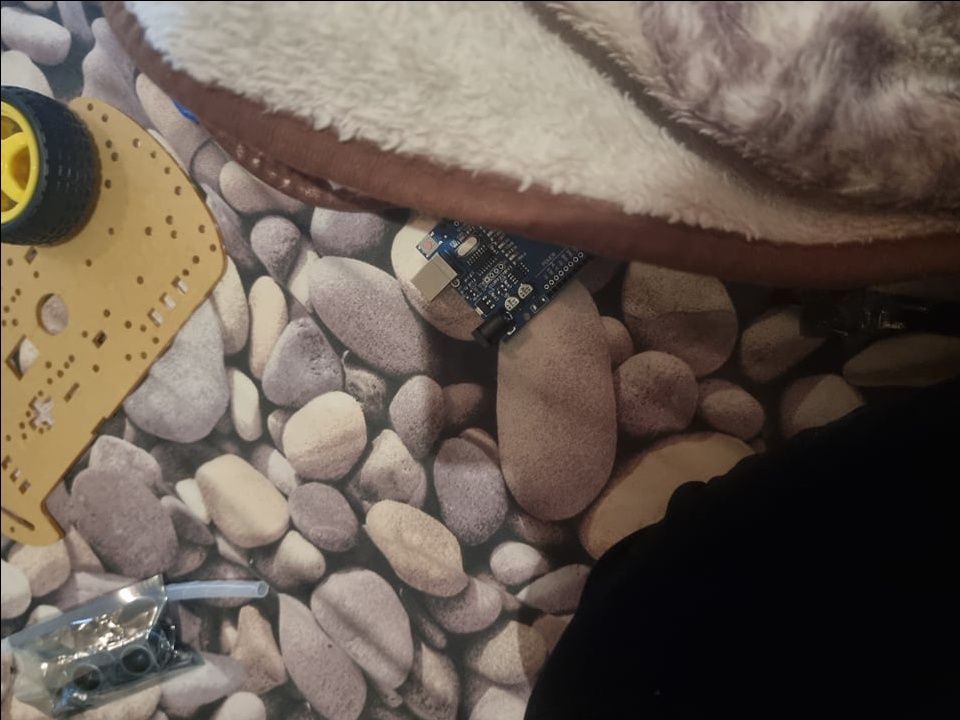5V EXPANSION: (412, 211, 596, 348)
SENSOR: (61, 627, 165, 697)
